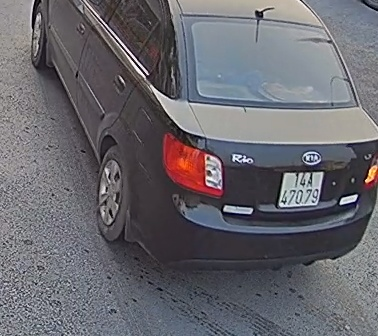vehicle plate: (278, 165, 322, 209)
